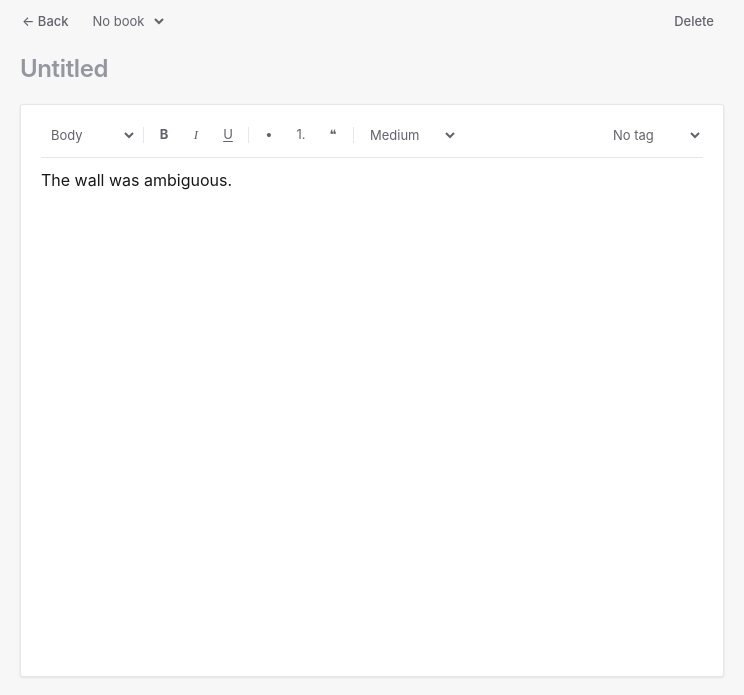
Test: renaming a note from its own page › offers a placeholder for a note that has no title yet
The width and height of the screenshot is (744, 695).
Click the button "Untitled": (64, 69) [16,54,112,84]
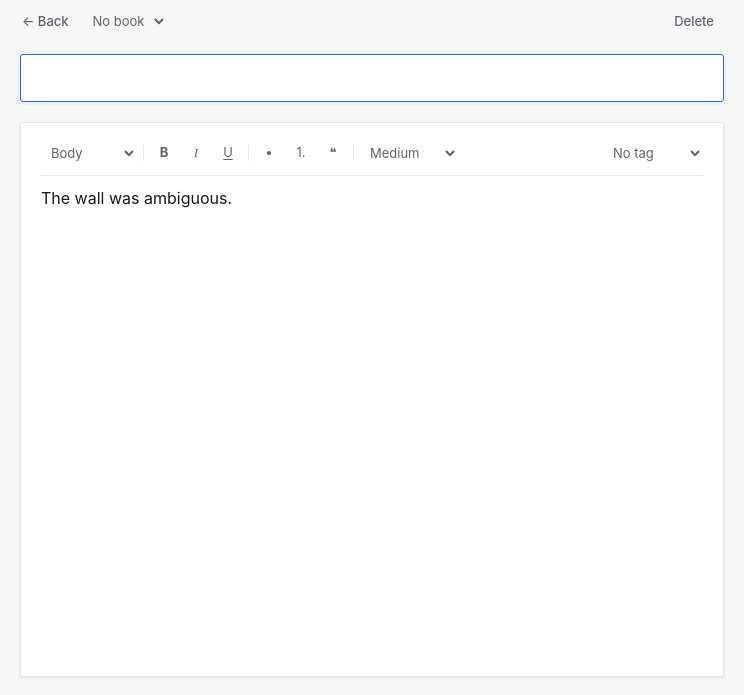
In the field named "Note title": (372, 78) [20,54,724,102], type "First thoughts"
Then press Enter
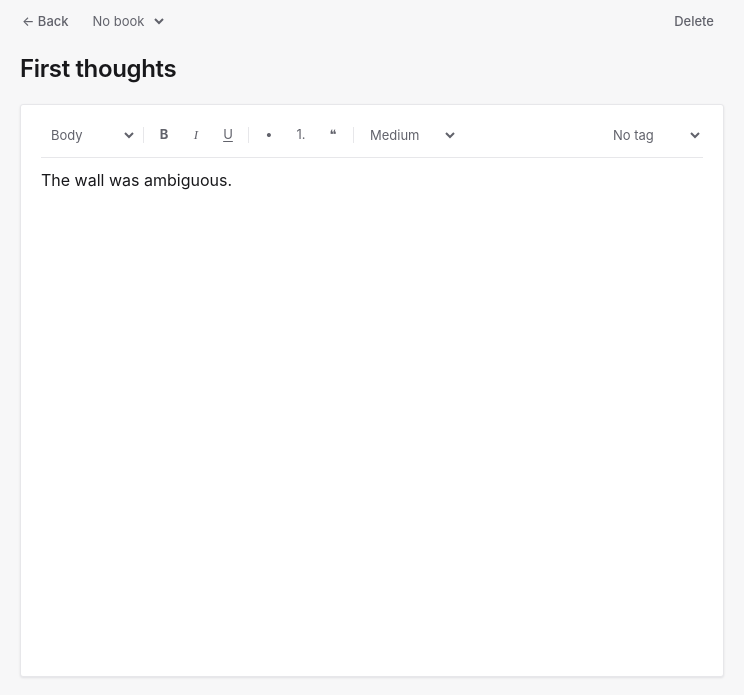
Result: the button "First thoughts" is shown at [16,54,180,84]
